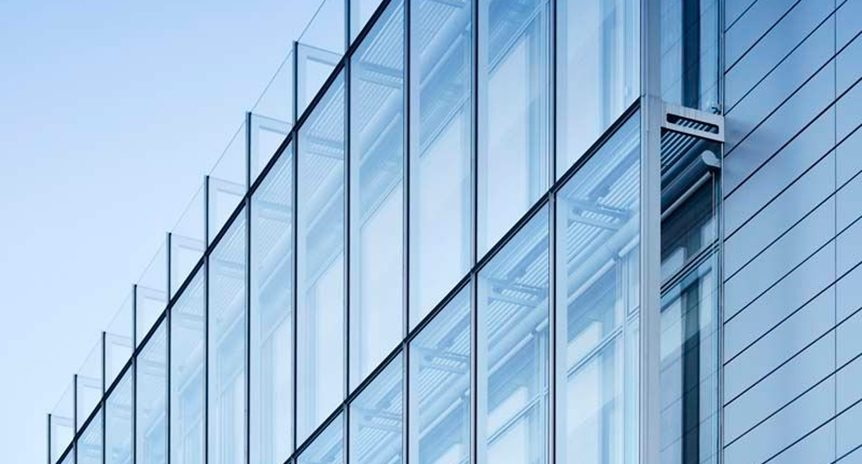glass panel: (556, 116, 640, 463), (350, 0, 404, 387), (409, 0, 472, 326), (477, 206, 549, 463), (477, 0, 549, 255), (297, 75, 345, 441), (556, 0, 640, 175), (249, 145, 293, 463), (408, 286, 470, 463), (207, 211, 245, 463), (170, 268, 205, 463), (249, 50, 294, 182), (349, 354, 403, 463), (297, 0, 346, 114), (206, 119, 247, 242), (135, 322, 166, 463), (170, 185, 205, 296), (134, 244, 167, 345), (105, 369, 132, 463), (105, 293, 132, 387), (75, 337, 102, 427), (297, 412, 344, 463), (49, 382, 75, 461), (75, 410, 102, 463), (349, 0, 381, 40)
